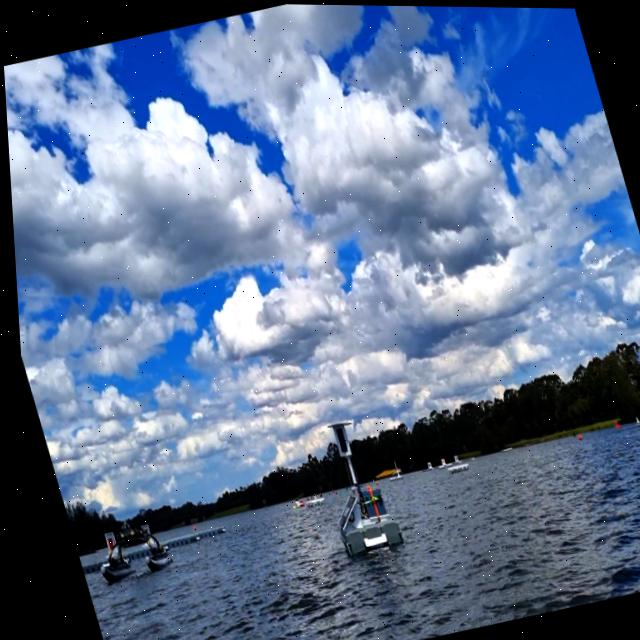led: (328, 424, 345, 455)
